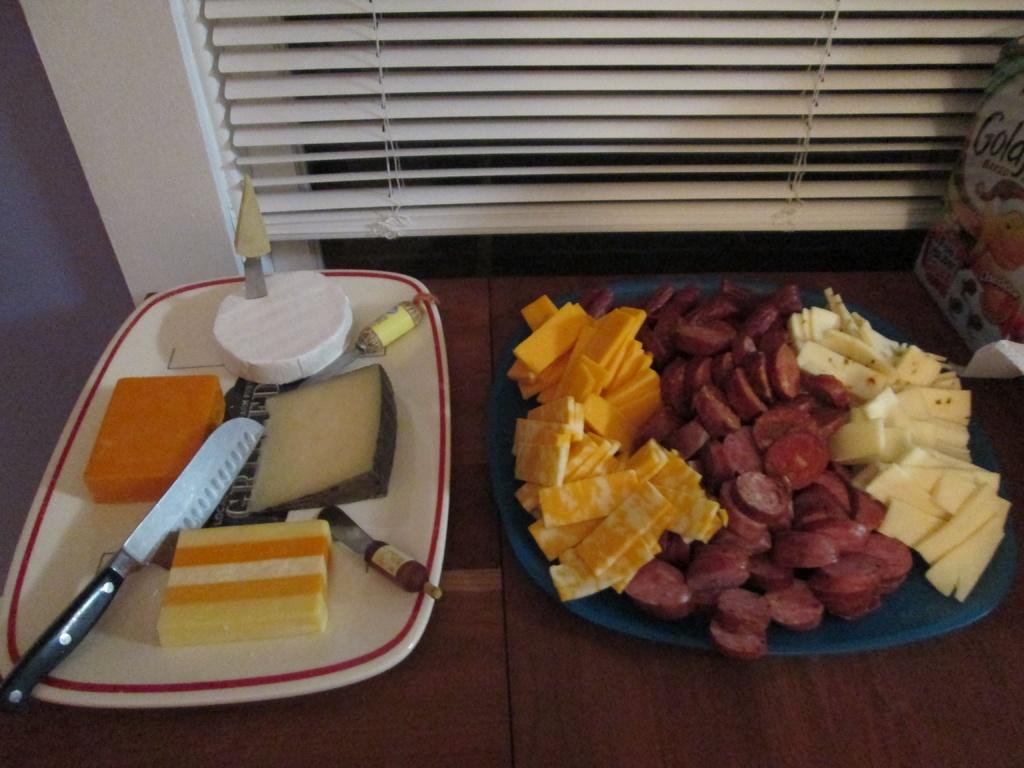Knife: (0, 413, 269, 709)
